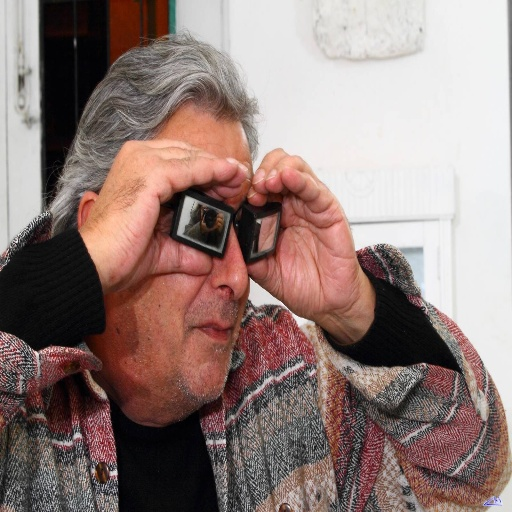hand: (256, 143, 388, 357), (79, 138, 248, 294)
